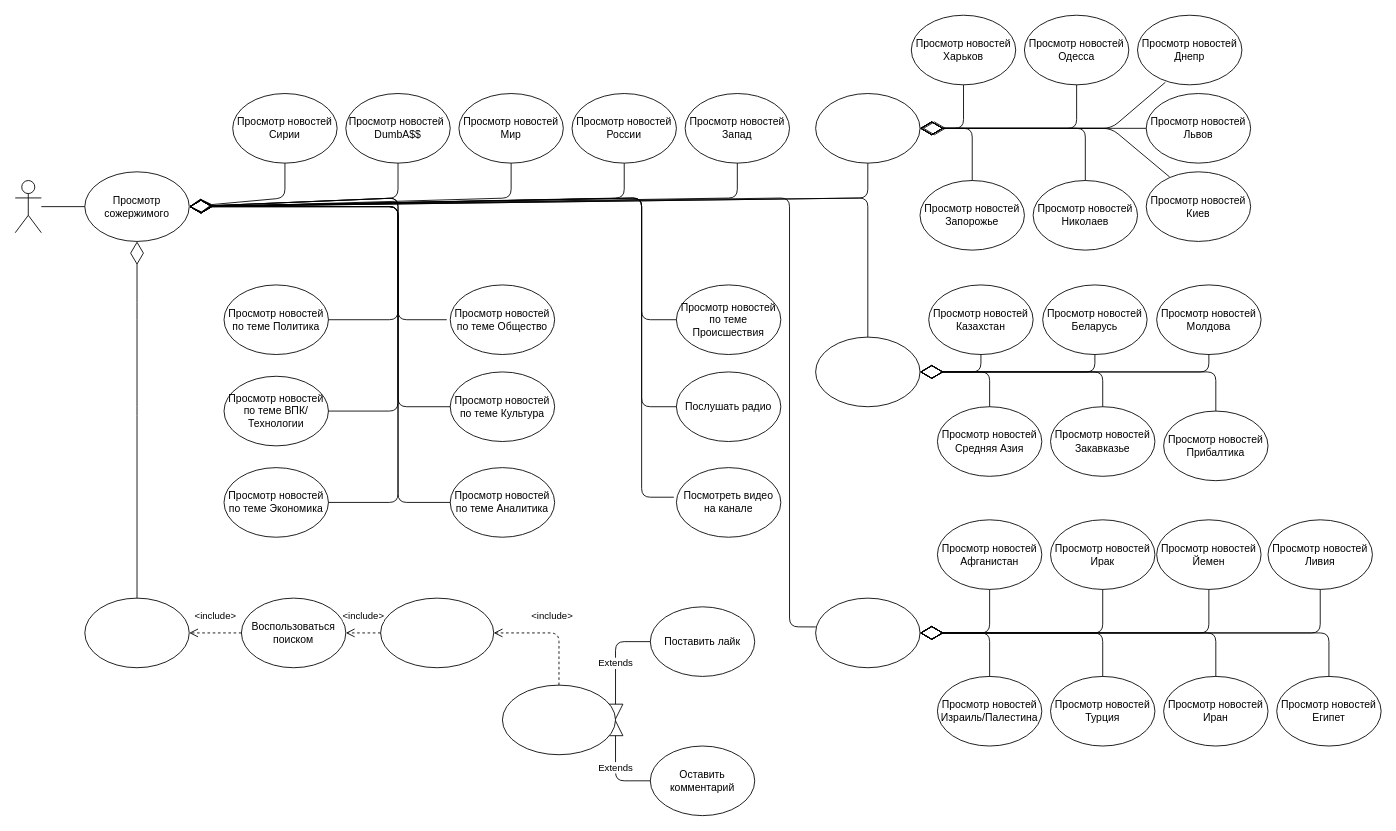
The diagram is 1396 pixels wide and 831 high, and some of its shapes have lost their labels. The centre of each missing label's shape, as x and y in pixels:
Actor: (27,206)
Выбрать новость: (559,719)
Найти конкретную новость: (136,632)
Предложить перечень новостей по данной тематике: (437,632)
Просмотр новостей Ближний Восток: (867,632)
Просмотр новостей Бывший СССР: (867,371)
Просмотр новостей Ураины: (867,128)
